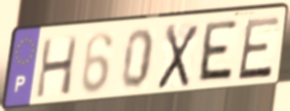0: (120, 26, 156, 94)
6: (79, 30, 115, 97)
E: (235, 14, 283, 83), (194, 18, 240, 85)
H: (34, 34, 81, 101)
X: (155, 22, 201, 91)
